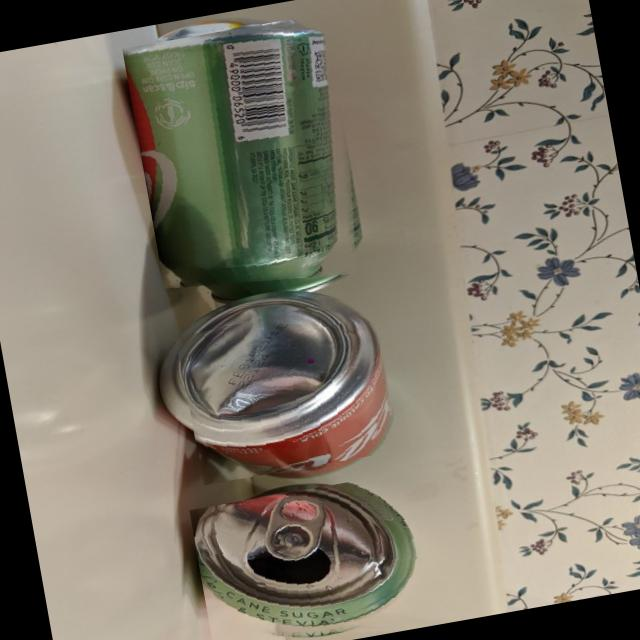Cans: (121, 10, 384, 306), (172, 290, 410, 486), (188, 470, 440, 640)
